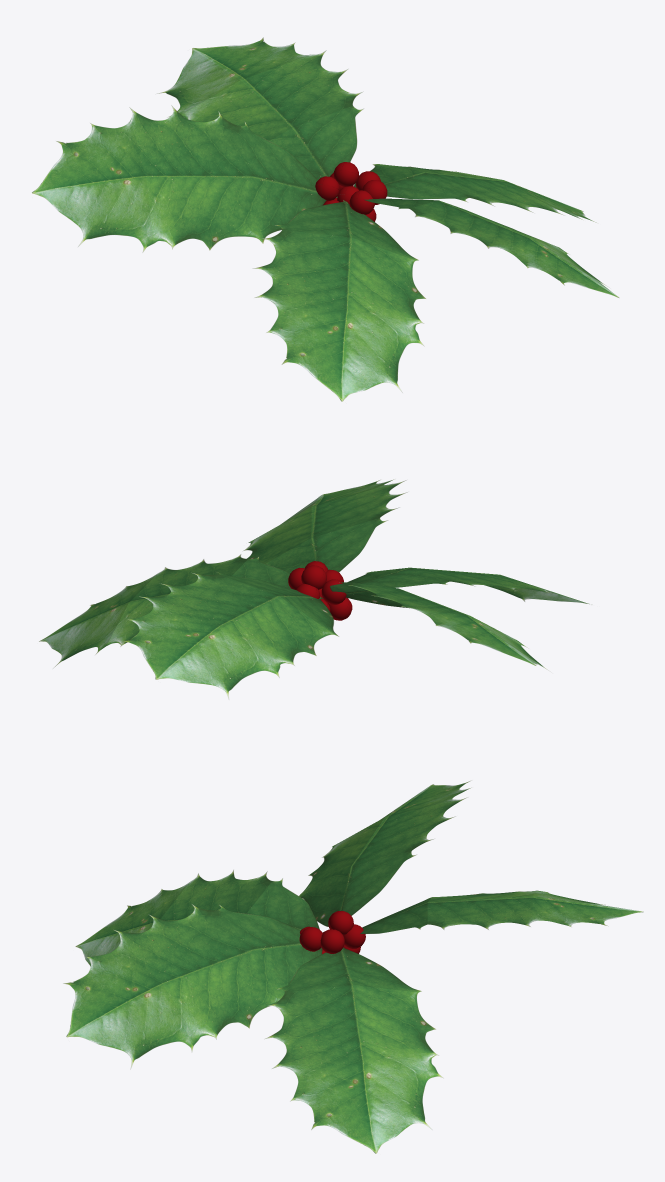
The model's file is Holly_glTF.glb.
3 views of the same model, one above another, from view 1: azimuth 30°, elevation 25°; view 2: azimuth 150°, elevation 25°; view 3: azimuth 270°, elevation 25° (orthographic). The views are drawn at different scales.
Parts seen in each view (by area): view 1: HolyLeaf; view 2: HolyLeaf; view 3: HolyLeaf.
Part boxes in pixels (left/top/right/bottom): HolyLeaf: left=32, top=37, right=619, bottom=401; HolyLeaf: left=39, top=479, right=588, bottom=698; HolyLeaf: left=63, top=781, right=643, bottom=1153.
Size of the model in its own units: 10.19 by 3.33 by 10.3.
Materials: 1 (1 with a texture image).
